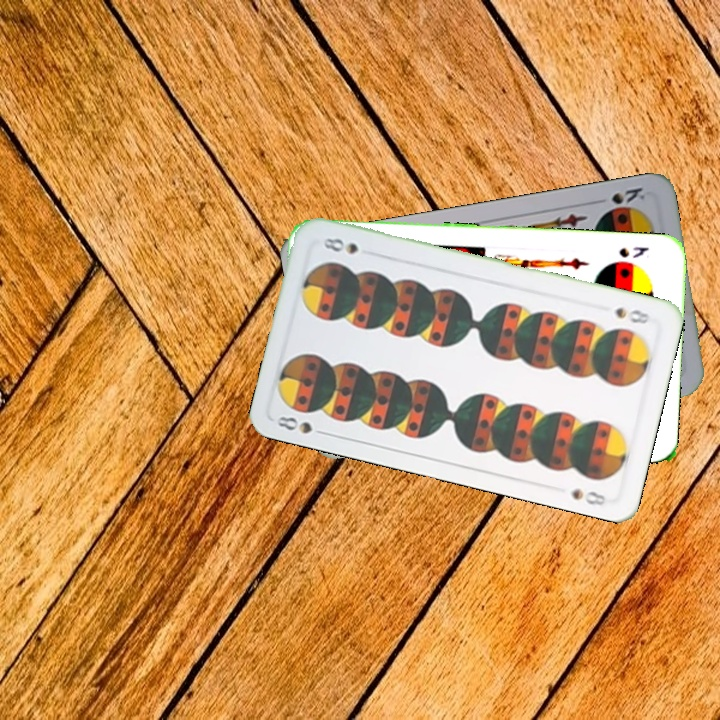S8: (273, 412, 331, 438), (611, 303, 653, 327)
SK: (607, 183, 649, 207), (615, 242, 651, 261)
